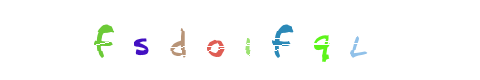1: (183, 0, 263, 80)
D: (155, 0, 235, 80)
F: (100, 0, 180, 80), (200, 0, 280, 80)
L: (253, 0, 333, 80)
O: (176, 0, 256, 80)
Q: (241, 0, 321, 80)
S: (144, 0, 224, 80)
